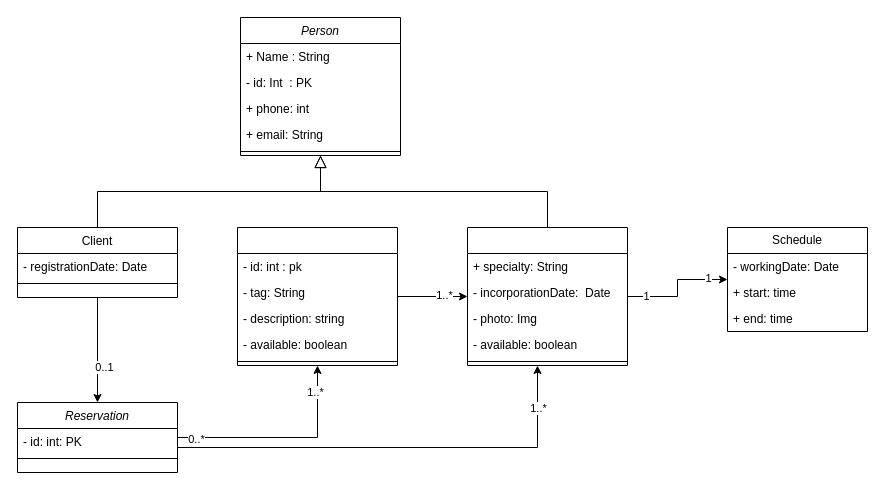
Image size: 885x490. Some labels were removed from this diagram. The box of each missing label's shape, as (x1, y1, x2, y2) in pixels:
Hairdresser: (466, 226, 628, 366)
Service: (236, 226, 398, 366)
